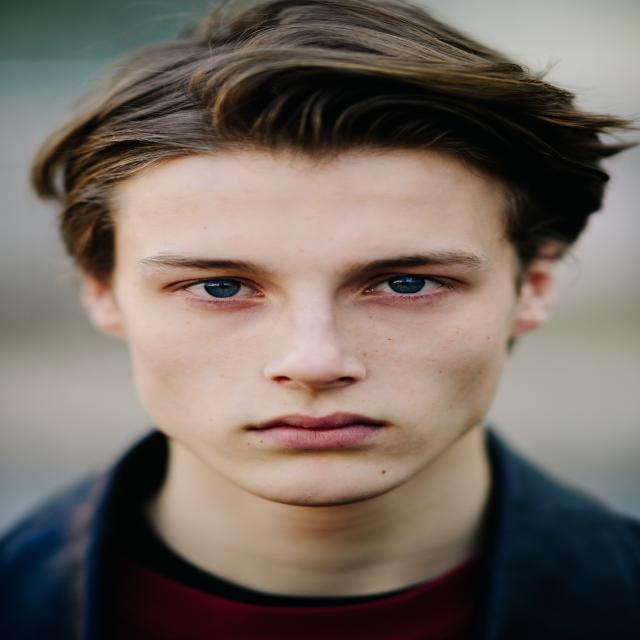earlobe: (508, 305, 542, 337), (95, 310, 127, 340)
eye: (362, 273, 451, 297), (180, 276, 264, 300)
nose: (265, 373, 368, 409)
wholeear: (509, 238, 561, 336), (78, 270, 127, 340)
